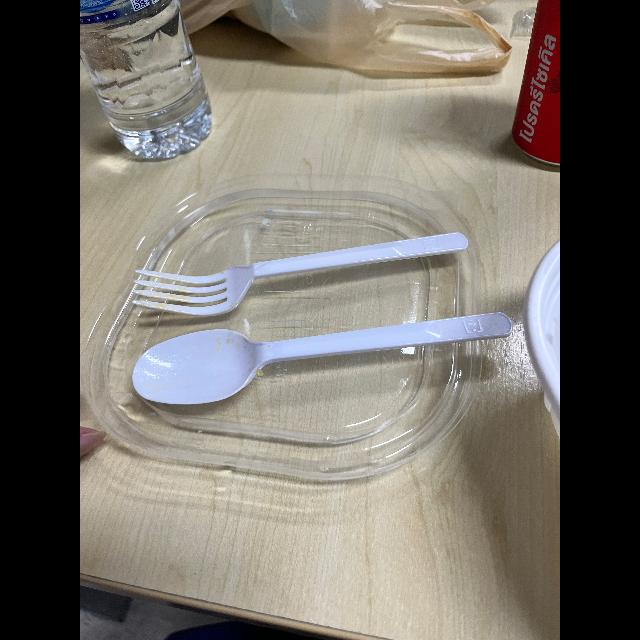plastic_cultery: (134, 291, 514, 414), (135, 204, 468, 326)
